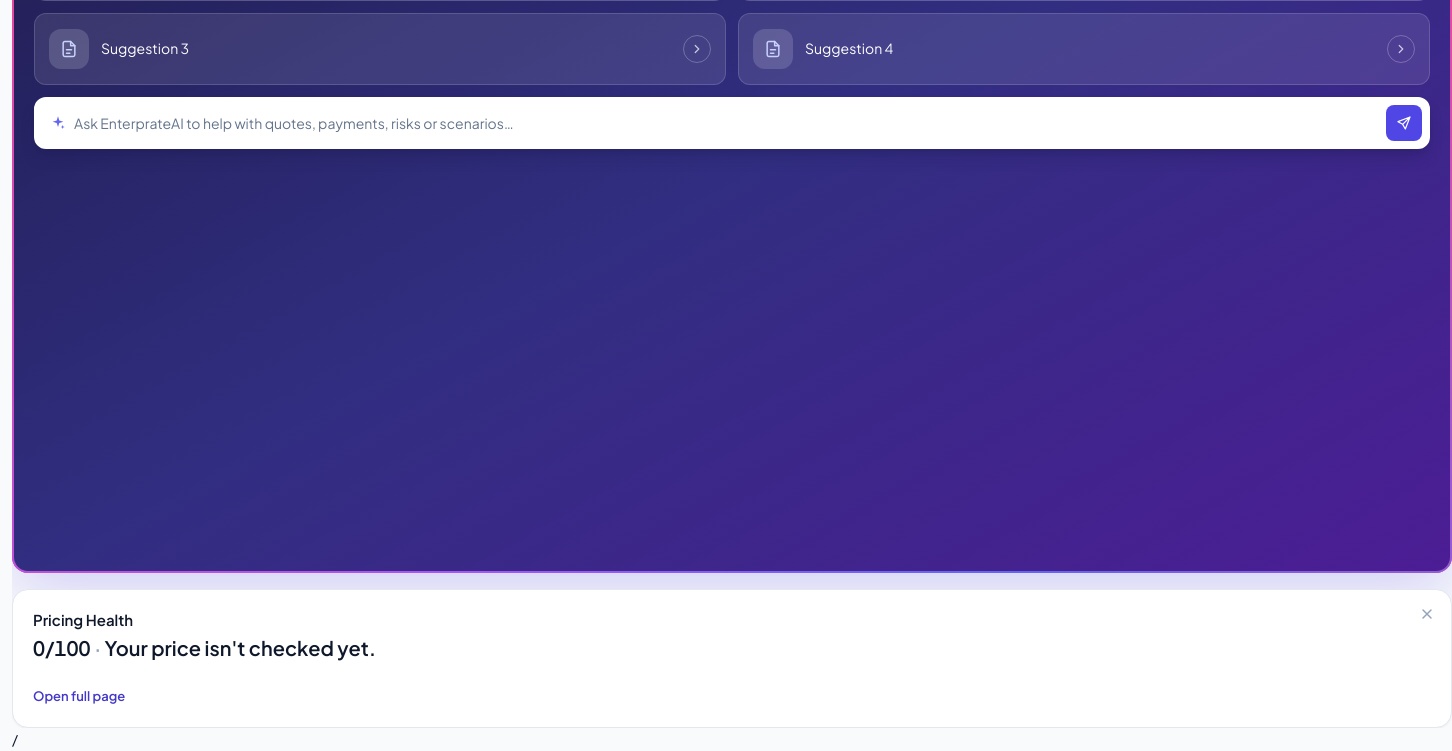
the pricing result's Open button lands on its own page, and no drawer opens
(page scrolled)
Click the link "Open full page".
click(79, 697)  # box x1=33 y1=686 x2=125 y2=707
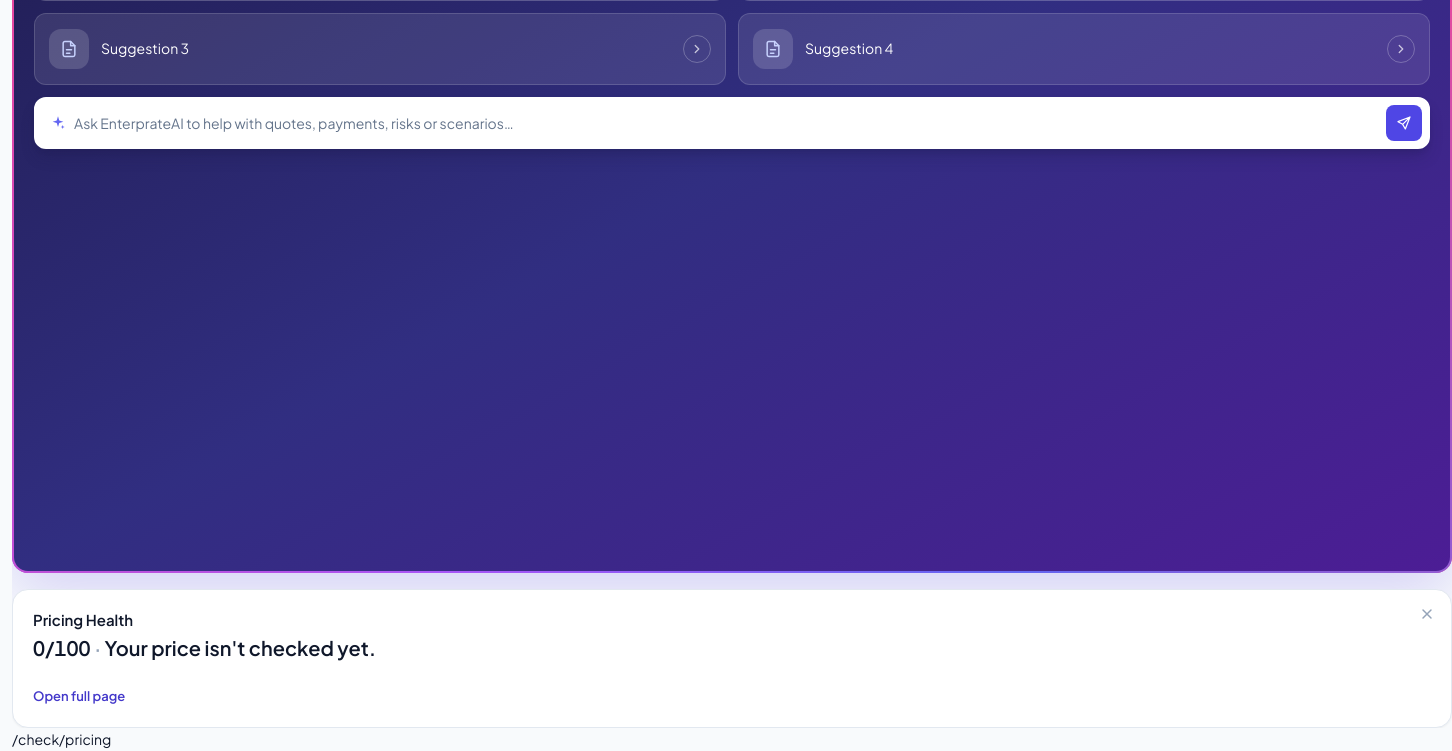
Expected: the text with test id "where" reads "/check/pricing", x1=12 y1=730 x2=111 y2=748
